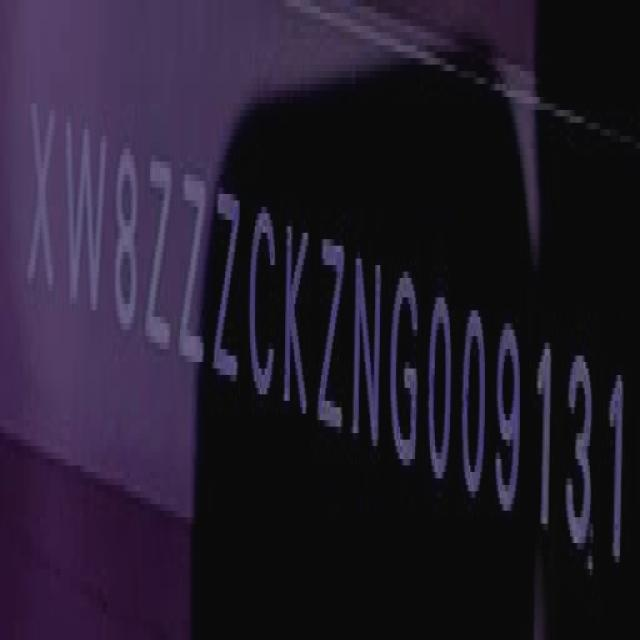0: (426, 282, 454, 492), (462, 296, 488, 507)
1: (609, 362, 627, 582), (534, 328, 552, 542)
3: (568, 343, 594, 565)
8: (114, 131, 141, 342)
9: (494, 309, 523, 527)
C: (249, 191, 277, 408)
G: (392, 258, 422, 474)
K: (283, 207, 313, 431)
N: (350, 238, 384, 464)
W: (63, 109, 111, 329)
X: (23, 91, 59, 315)
Z: (179, 152, 210, 378), (316, 219, 346, 448), (212, 174, 242, 396), (143, 146, 173, 364)
